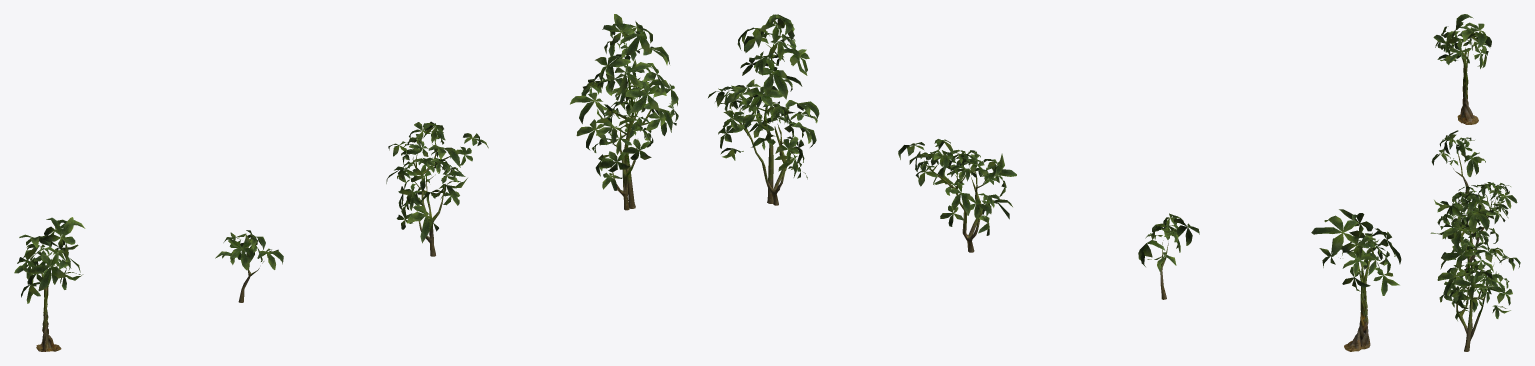
The model's file is pachira_aquatica_01.glb.
The picture shows the model from 3 angles, left to right: view 1: azimuth 30°, elevation 25°; view 2: azimuth 150°, elevation 25°; view 3: azimuth 270°, elevation 25°; orthographic projection. The views are drawn at different scales.
Parts seen in each view (by area): view 1: pachira_aquatica_01_leaves_a, pachira_aquatica_01_bark_a; view 2: pachira_aquatica_01_leaves_a, pachira_aquatica_01_bark_a; view 3: pachira_aquatica_01_leaves_a, pachira_aquatica_01_bark_a.
Boxes of the visible parts, box(x1,y1,x2,y2) form: pachira_aquatica_01_leaves_a: box(14, 14, 678, 303); pachira_aquatica_01_bark_a: box(36, 43, 653, 351); pachira_aquatica_01_leaves_a: box(708, 14, 1401, 295); pachira_aquatica_01_bark_a: box(730, 43, 1370, 351); pachira_aquatica_01_leaves_a: box(1430, 14, 1520, 320); pachira_aquatica_01_bark_a: box(1451, 48, 1498, 351).
Bounding box in the file's own units: 6.87 × 1.9 × 0.997.
Materials: 2 (2 with a texture image).
